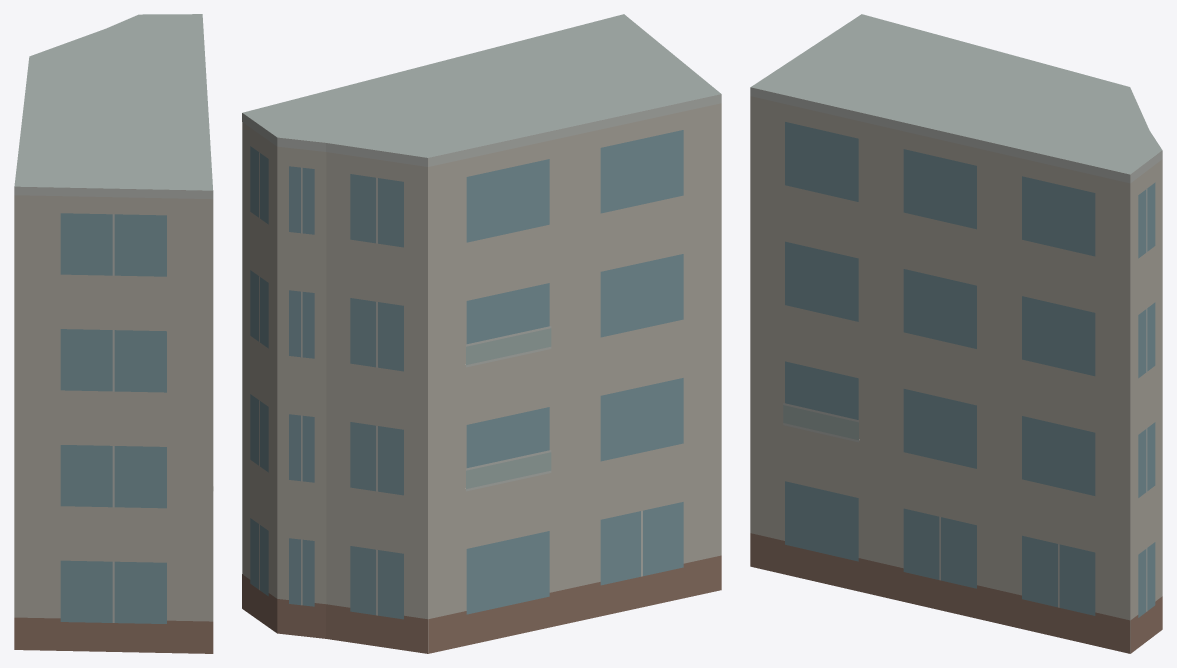
File: survey-upis-32727030.glb
3 renders of one model, left to right at view 1: azimuth 30°, elevation 25°; view 2: azimuth 150°, elevation 25°; view 3: azimuth 270°, elevation 25°, orthographic. The views are drawn at different scales.
Parts seen in each view (by area): view 1: survey-upis-32727030.tmp; view 2: survey-upis-32727030.tmp; view 3: survey-upis-32727030.tmp.
Boxes of the visible parts, x1=… form: survey-upis-32727030.tmp: x1=14, y1=14, x2=213, y2=653; survey-upis-32727030.tmp: x1=242, y1=14, x2=721, y2=653; survey-upis-32727030.tmp: x1=750, y1=14, x2=1162, y2=653.
Size of the model in its own units: 9.53 by 13.25 by 10.34.
